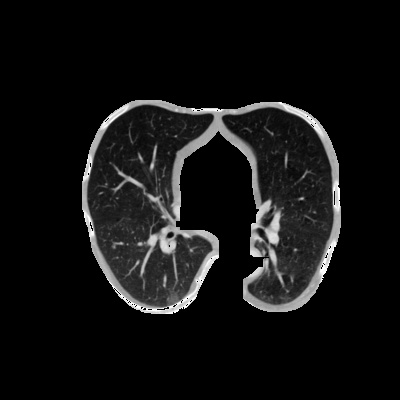PN: (112, 244, 116, 248)
